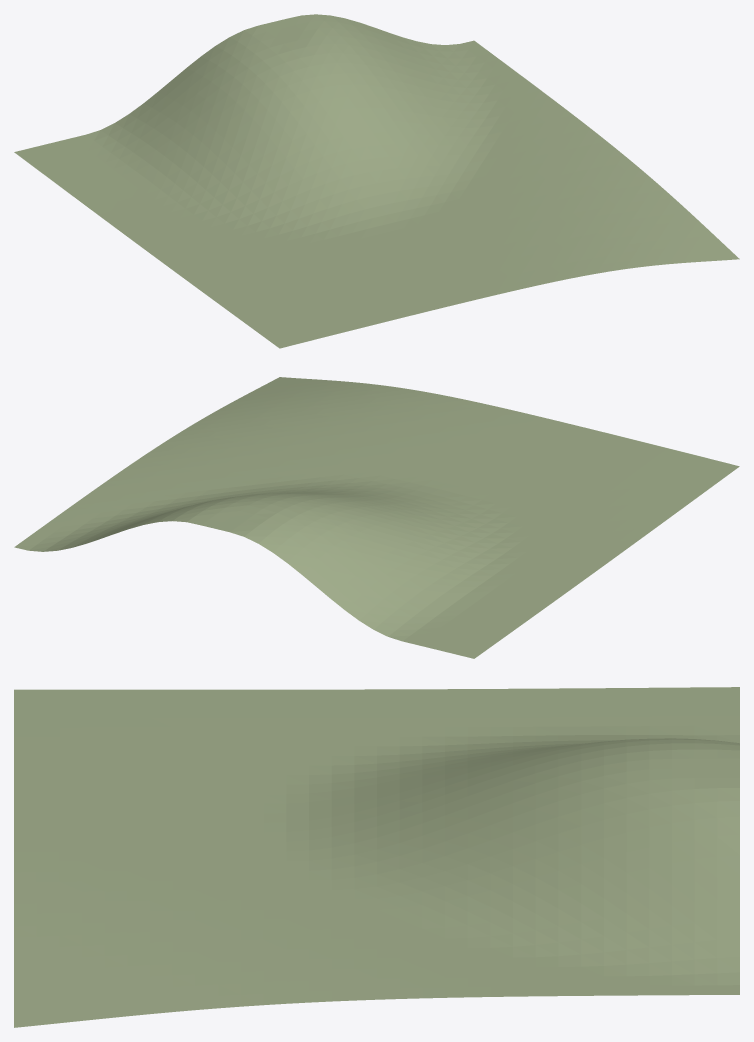
Rendered from desert-11-11.glb.
3 views of the same model, one above another, from view 1: azimuth 30°, elevation 25°; view 2: azimuth 150°, elevation 25°; view 3: azimuth 270°, elevation 25° (orthographic). The views are drawn at different scales.
Visible parts, largest first — view 1: desert-11-11; view 2: desert-11-11; view 3: desert-11-11.
Part boxes in pixels (x1,y1,x2,y2): desert-11-11: [14, 14, 739, 348]; desert-11-11: [14, 377, 739, 658]; desert-11-11: [14, 687, 739, 1027].
Bounding box in the file's own units: 512 × 97.67 × 512.
